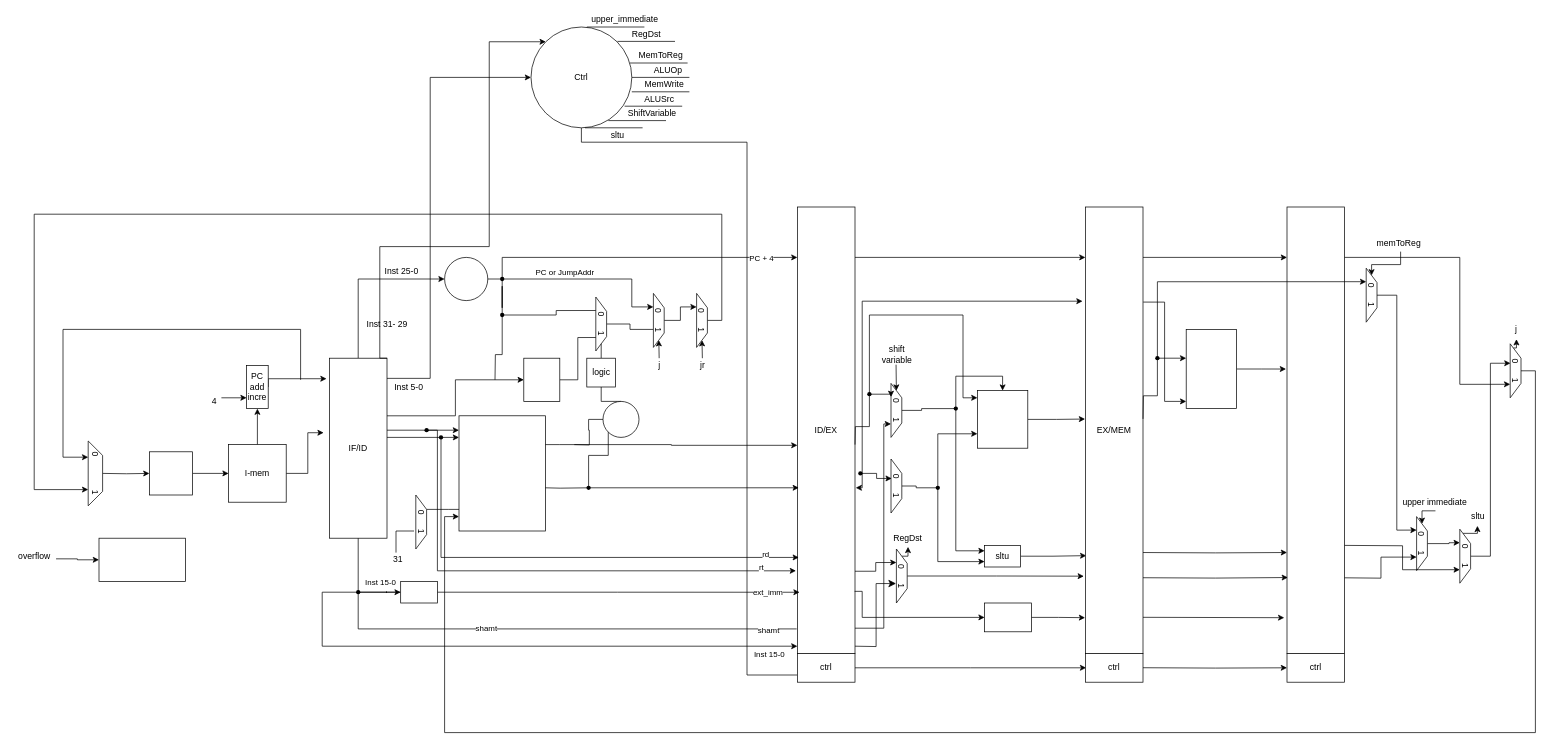
Image size: 1554x751. Some labels were removed from this diagram. Each missing label, with the centre of its shape:
ALU: [1002,419]
Branch Add: [541,379]
Dmem Addr Data: [1211,369]
equals: [620,419]
ext: [418,592]
MEM/WB: [1315,429]
Overflow detection: [141,559]
PC: [171,473]
rt rd rtD Register File rdD WrAddr WrData: [501,473]
Shift Left 2: [466,279]
upper immidiate: [1007,617]
